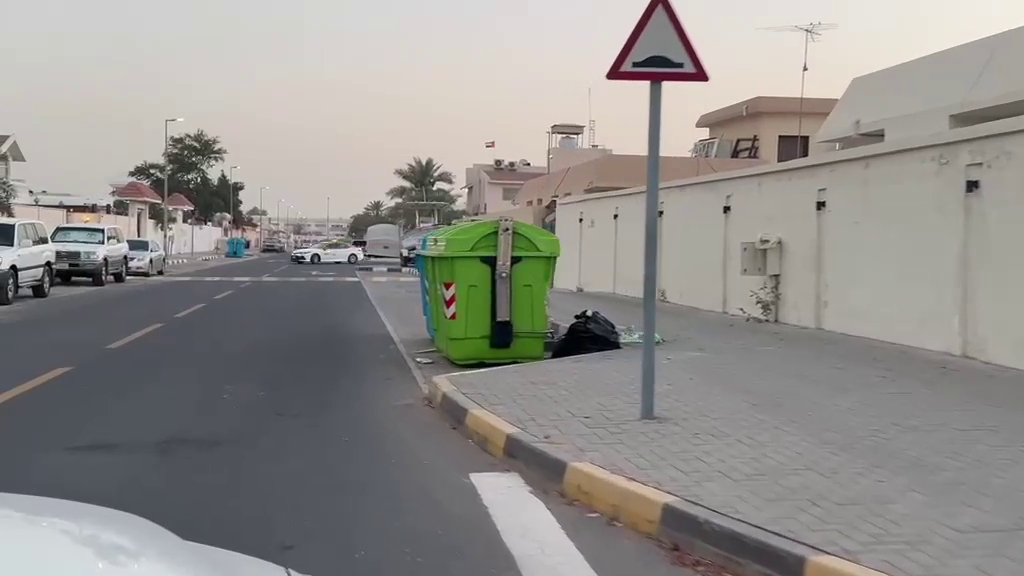Plastic: (418, 219, 560, 366), (551, 310, 620, 357), (618, 325, 666, 345), (226, 237, 249, 257)
